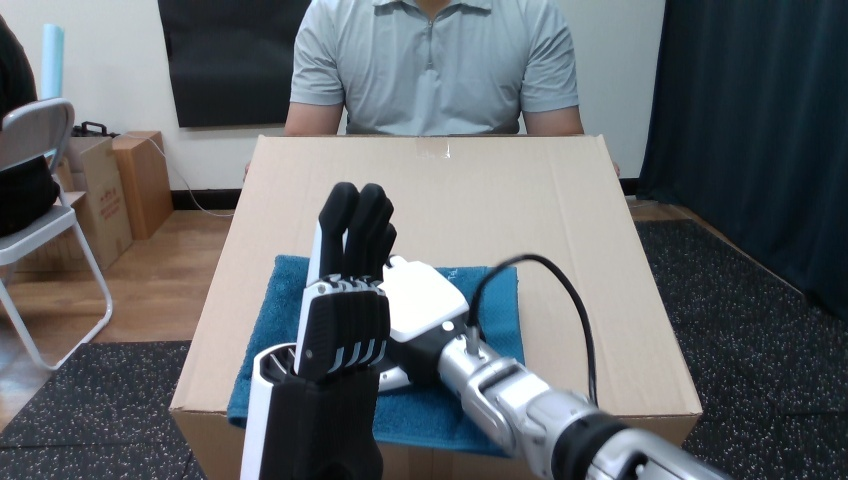left robot hand: (241, 182, 725, 479), (477, 259, 590, 398)
